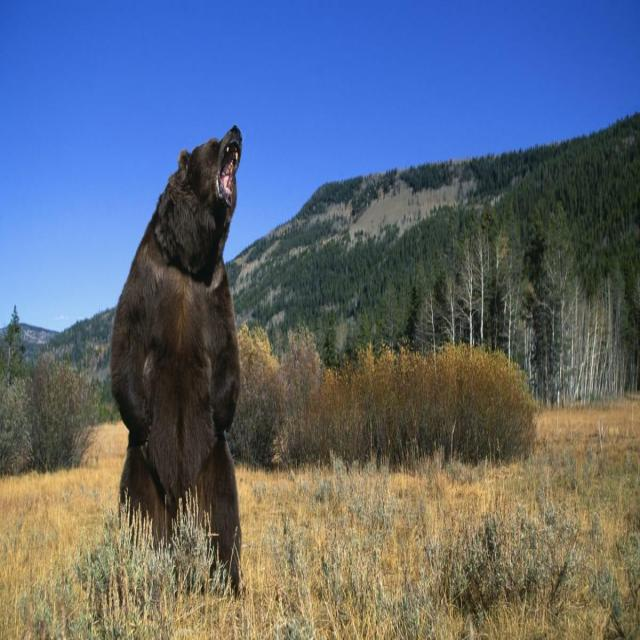Bear: (109, 127, 243, 595)
